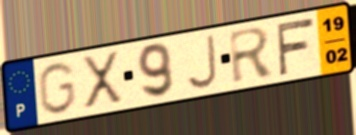9: (134, 42, 176, 101)
F: (274, 15, 316, 78)
G: (36, 60, 78, 116)
J: (184, 33, 219, 92)
R: (227, 25, 278, 87)
X: (80, 48, 125, 110)
